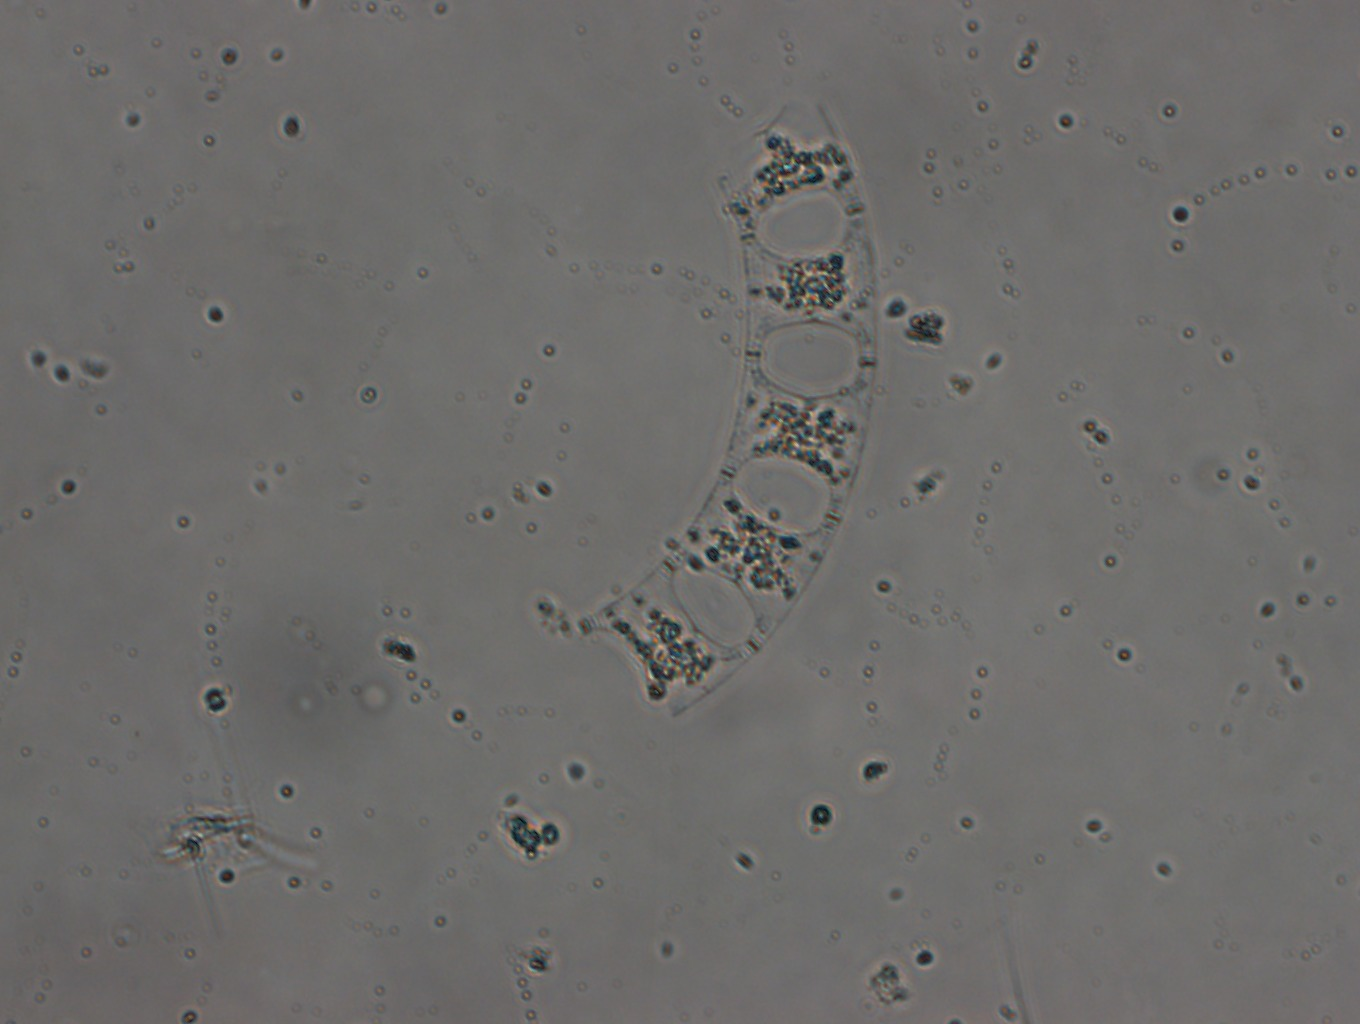eucampia: (579, 99, 876, 719)
